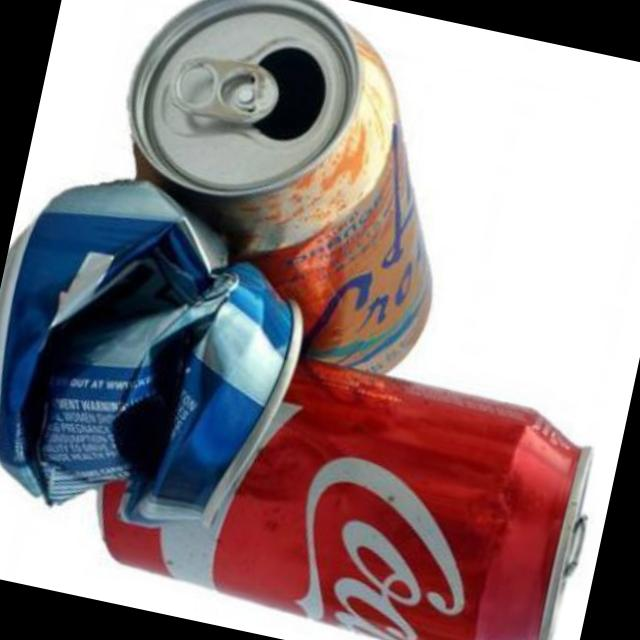metal: (103, 361, 590, 640), (135, 0, 434, 368), (0, 179, 302, 519)
